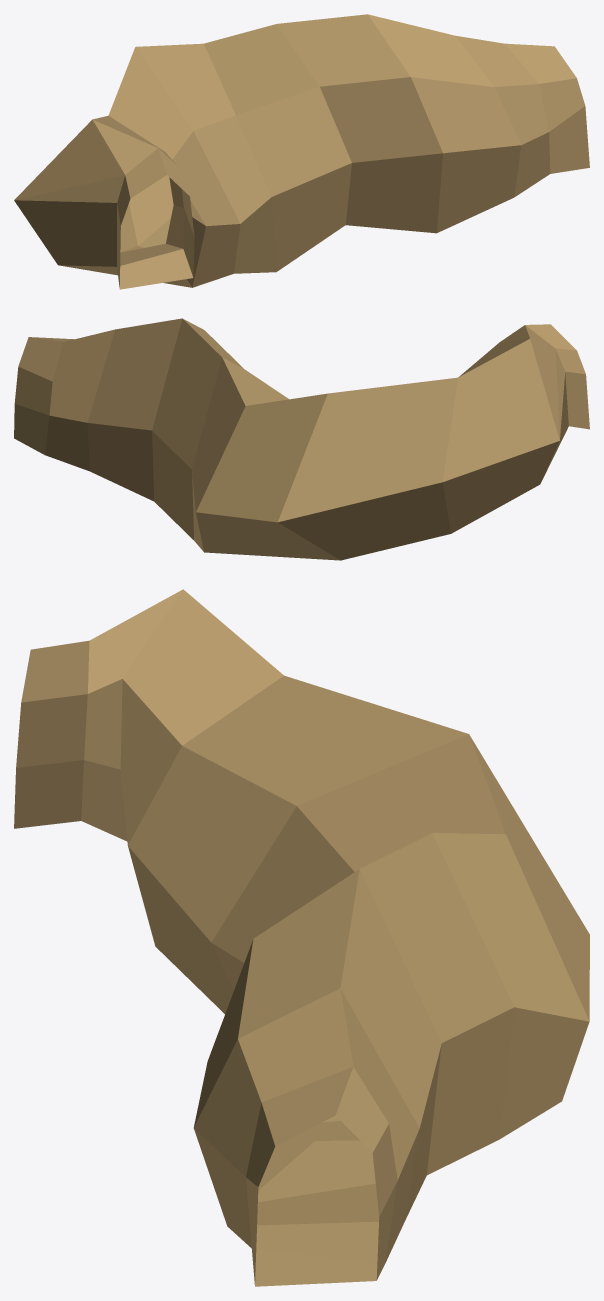
File: Tunnel-C01.fbx
The picture shows the model from 3 angles, top to bottom: view 1: azimuth 30°, elevation 25°; view 2: azimuth 150°, elevation 25°; view 3: azimuth 270°, elevation 25°; orthographic projection. The views are drawn at different scales.
Parts seen in each view (by area): view 1: Tunnel-C01; view 2: Tunnel-C01; view 3: Tunnel-C01.
Boxes of the visible parts, left/top/right/bottom form: Tunnel-C01: left=14, top=14, right=589, bottom=289; Tunnel-C01: left=14, top=318, right=589, bottom=560; Tunnel-C01: left=14, top=589, right=589, bottom=1286.
Bounding box in the file's own units: 796 × 1439 × 559.
